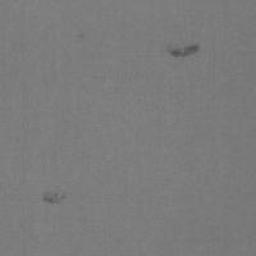Inclusion: (165, 44, 202, 59), (42, 191, 68, 205)
